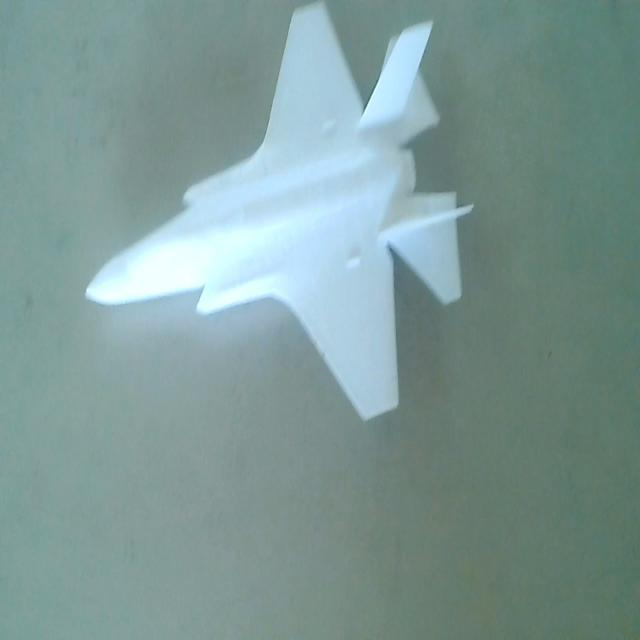Jet: (78, 2, 477, 430)
